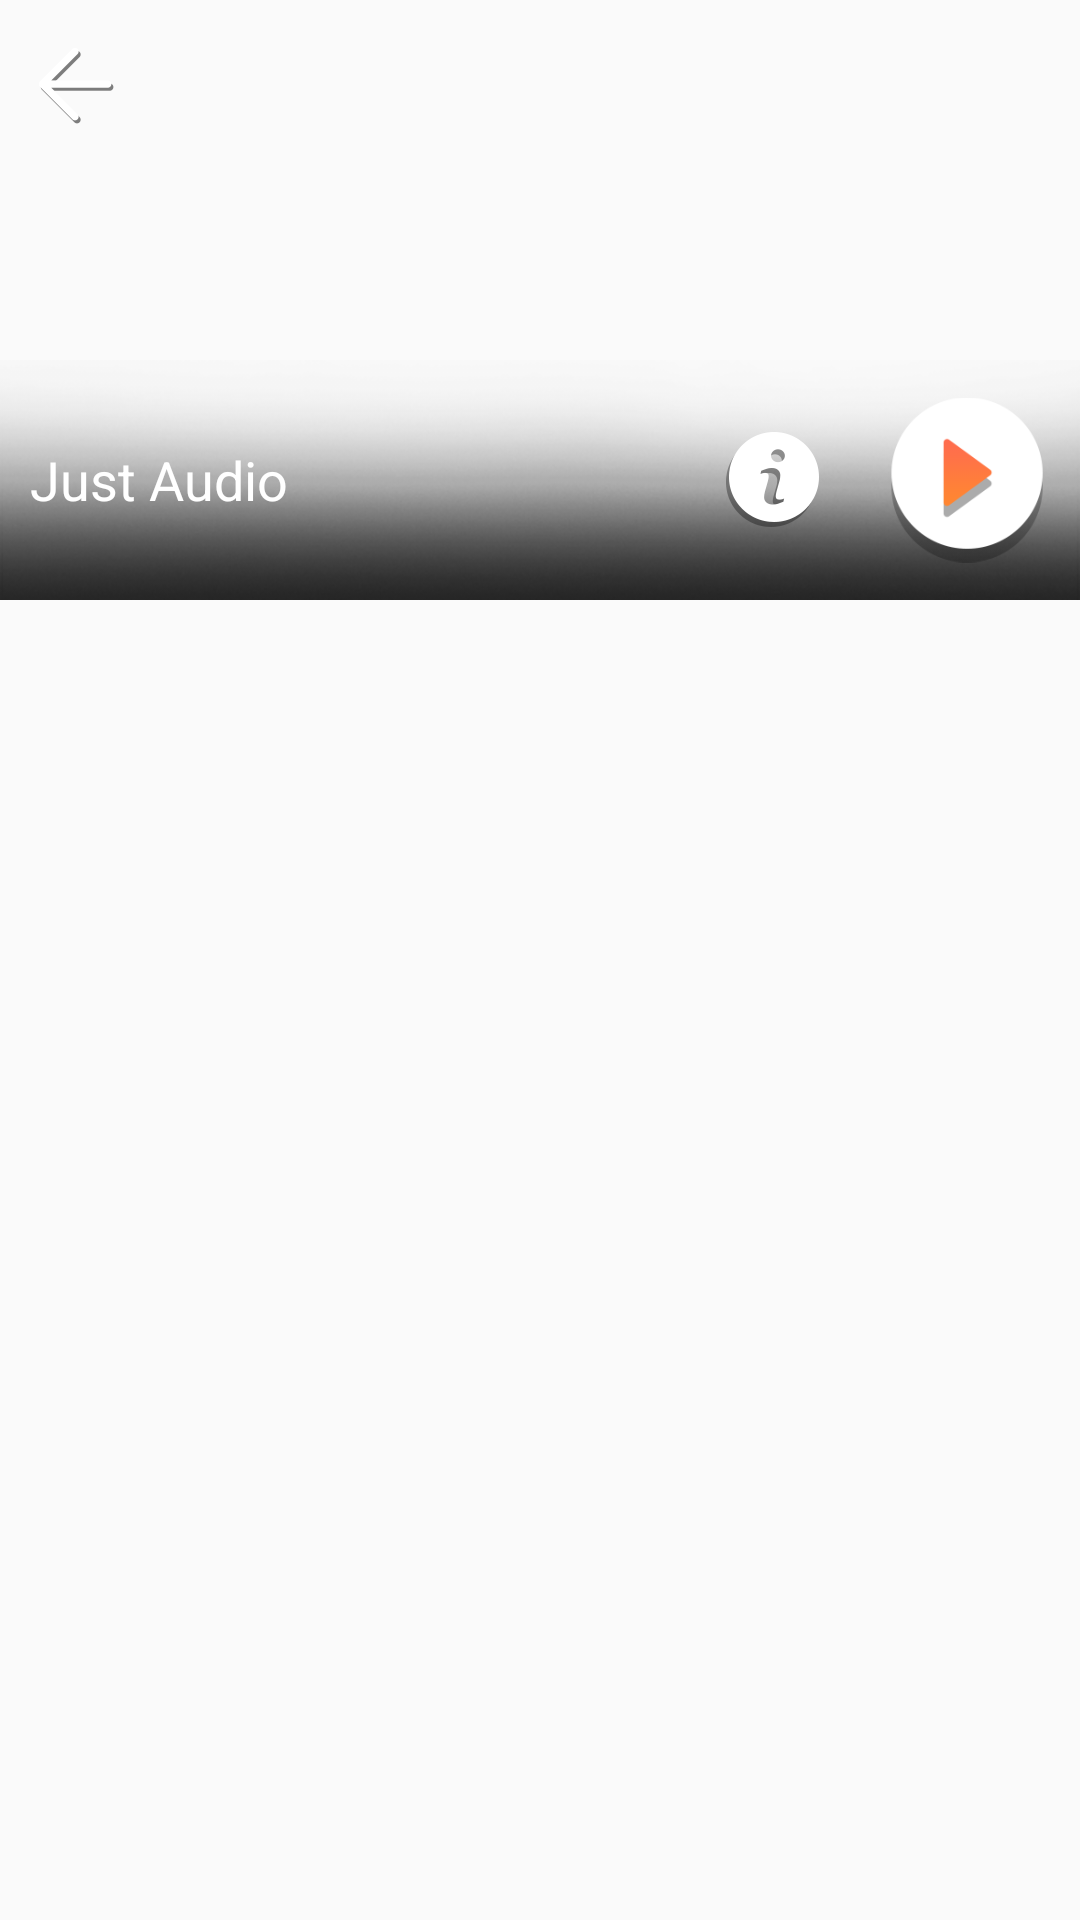

Icons on this 1080px×1920px Android screen, each with the point to tap as point (x, y):
back: point (77, 87)
info: point (772, 480)
play: point (967, 480)
